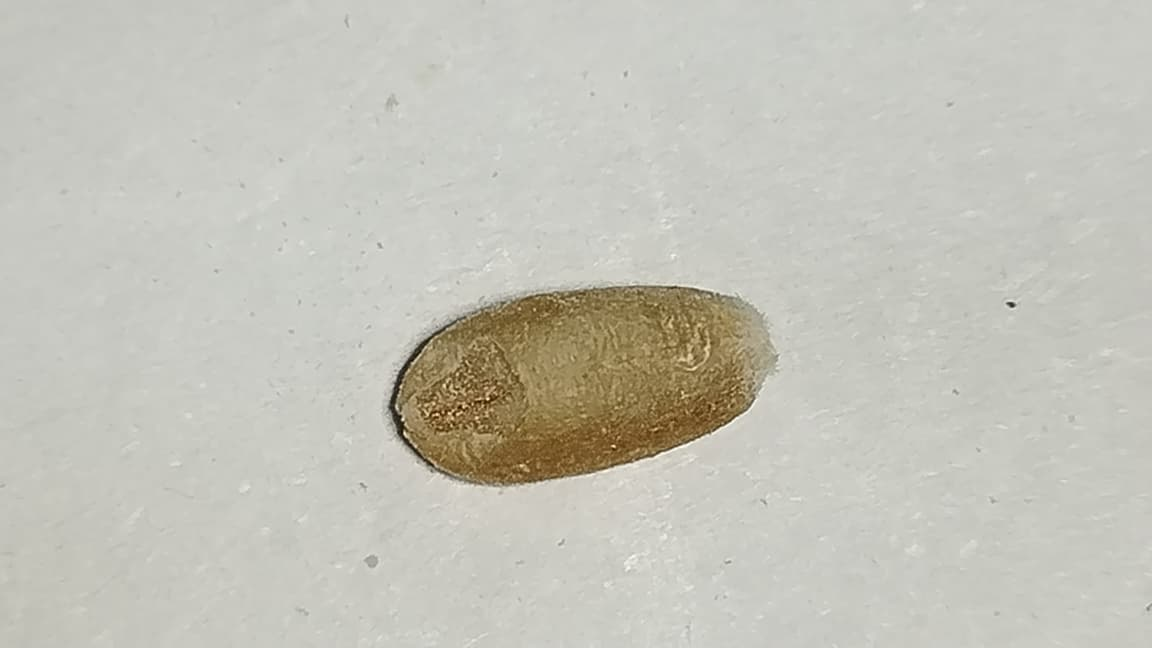damage: (391, 285, 777, 484)
insectdamage: (408, 331, 525, 462)
